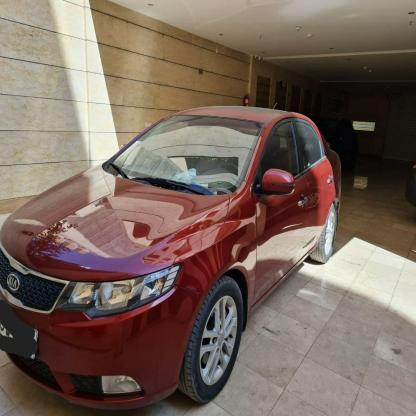Car: (0, 113, 348, 416)
